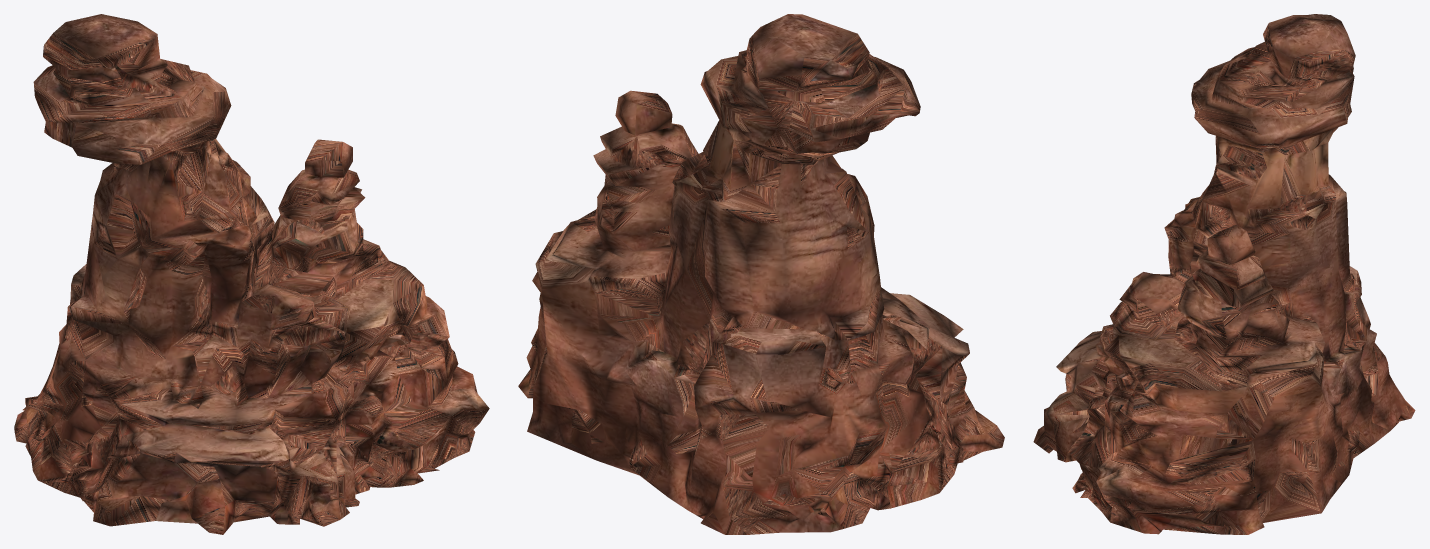
The model's file is Desert_Mushroom_Rock.glb.
The picture shows the model from 3 angles, left to right: view 1: azimuth 30°, elevation 25°; view 2: azimuth 150°, elevation 25°; view 3: azimuth 270°, elevation 25°; orthographic projection. The views are drawn at different scales.
Parts seen in each view (by area): view 1: Desert_Mushroom_Rock; view 2: Desert_Mushroom_Rock; view 3: Desert_Mushroom_Rock.
Boxes of the visible parts, bbox=[...] form: Desert_Mushroom_Rock: bbox=[14, 14, 489, 534]; Desert_Mushroom_Rock: bbox=[518, 14, 1004, 534]; Desert_Mushroom_Rock: bbox=[1033, 14, 1415, 534].
Size of the model in its own units: 1.87 by 1.9 by 1.72.
Materials: 1 (1 with a texture image).
